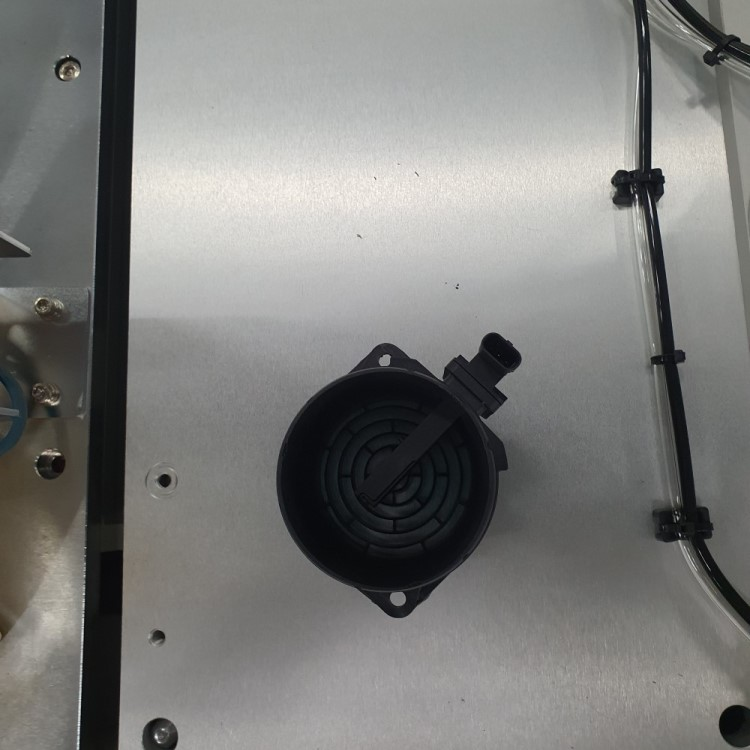ok: (277, 332, 523, 620)
